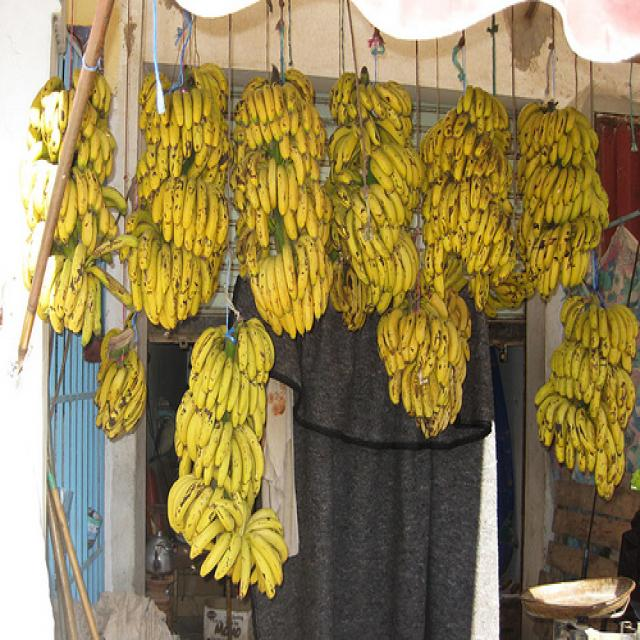banana: (13, 70, 529, 330), (168, 316, 290, 601), (119, 61, 235, 332), (227, 69, 333, 339), (46, 68, 137, 345), (534, 291, 640, 502), (515, 99, 610, 303), (376, 272, 472, 439), (93, 349, 147, 442), (345, 207, 364, 266), (377, 94, 404, 129), (152, 177, 171, 225), (564, 344, 578, 377), (470, 177, 484, 208)
